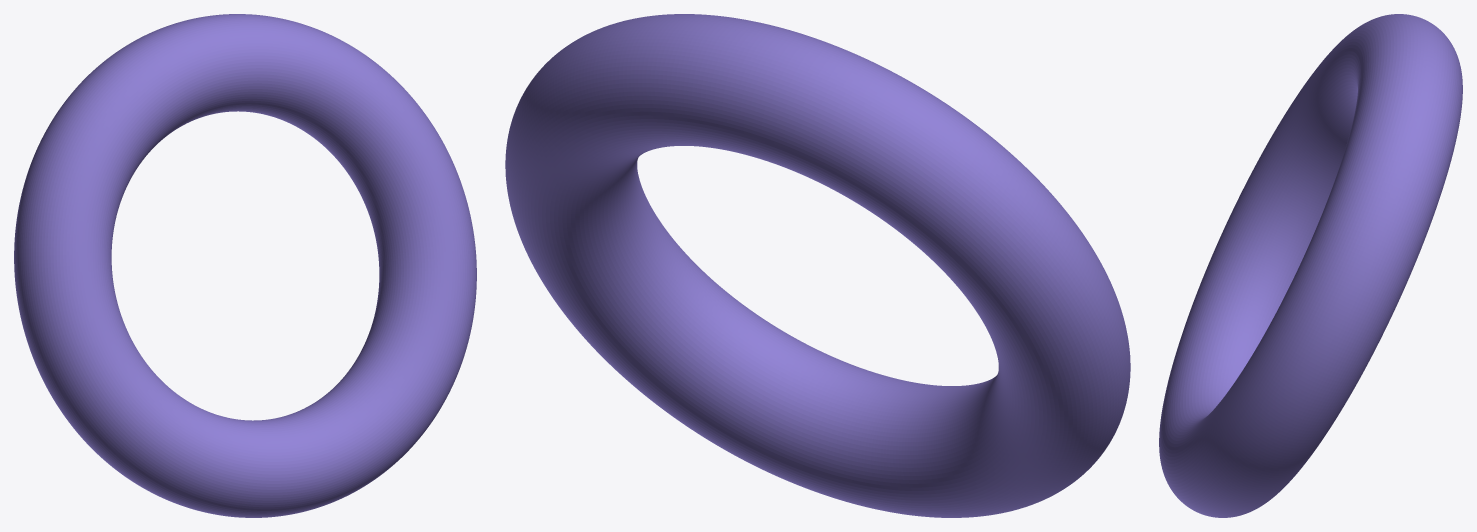
The picture shows the model from 3 angles, left to right: view 1: azimuth 30°, elevation 25°; view 2: azimuth 150°, elevation 25°; view 3: azimuth 270°, elevation 25°; orthographic projection. The views are drawn at different scales.
Parts seen in each view (by area): view 1: Torus; view 2: Torus; view 3: Torus.
Part boxes in pixels (x1=…): Torus: x1=14, y1=14, x2=476, y2=517; Torus: x1=505, y1=14, x2=1130, y2=517; Torus: x1=1159, y1=14, x2=1462, y2=517.
Bounding box in the file's own units: 869 × 793 × 487.
